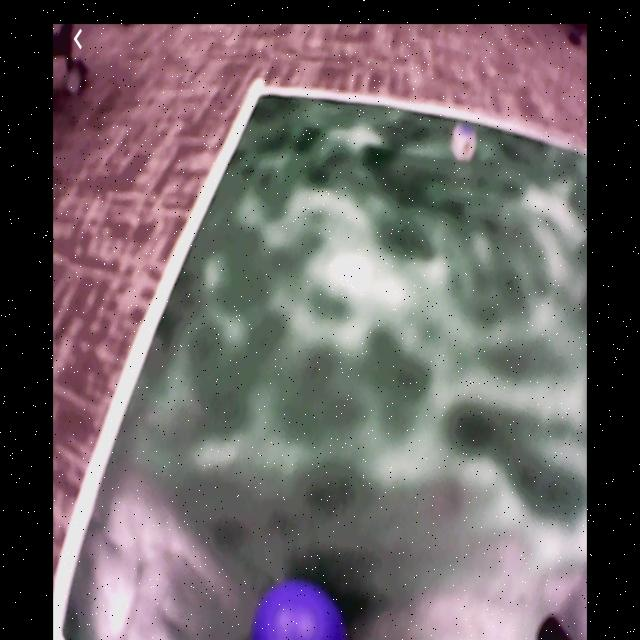ball: (252, 581, 347, 640)
